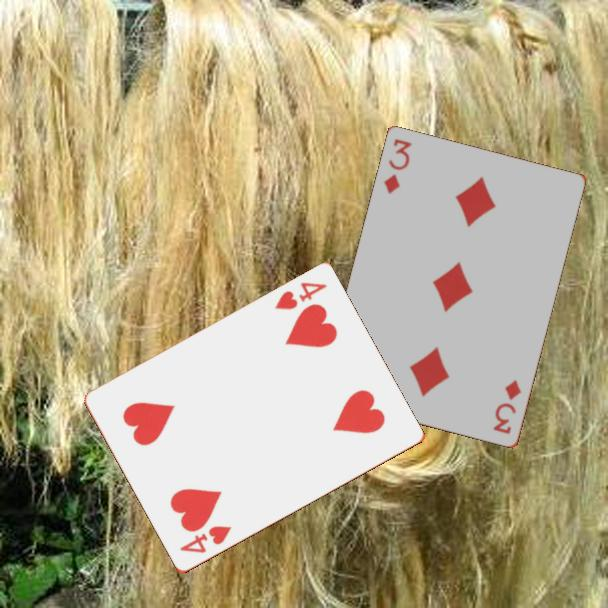d03: (490, 377, 525, 437), (381, 136, 415, 197)
h04: (176, 522, 235, 557), (270, 279, 330, 313)
